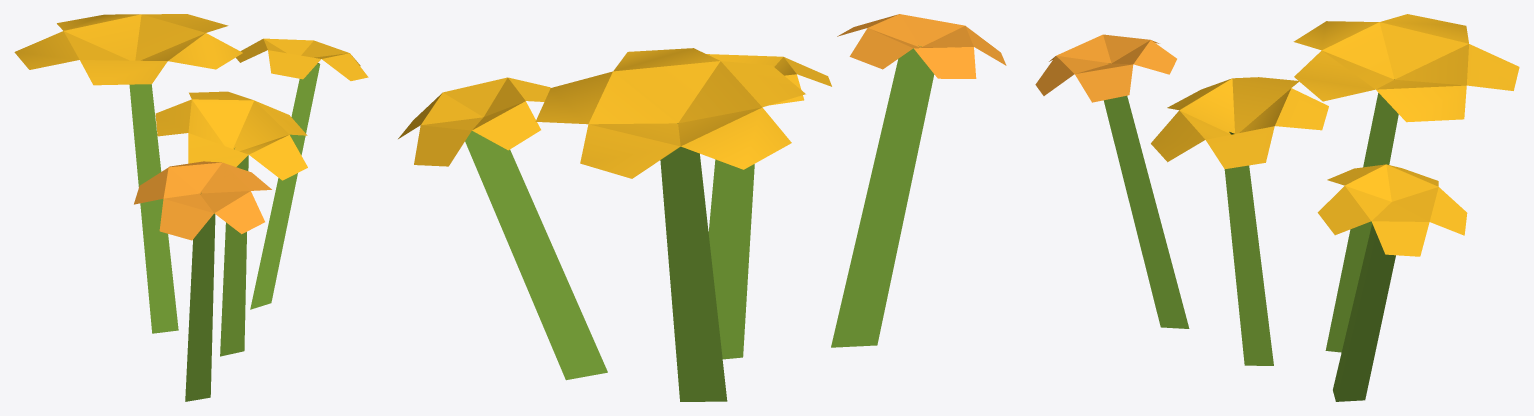
File: Env_Flower03.fbx
3 views of the same model, side by side, from view 1: azimuth 30°, elevation 25°; view 2: azimuth 150°, elevation 25°; view 3: azimuth 270°, elevation 25° (orthographic). The views are drawn at different scales.
Parts seen in each view (by area): view 1: Env_Flower03; view 2: Env_Flower03; view 3: Env_Flower03.
Part boxes in pixels (x1,y1,x2,y2): Env_Flower03: [14, 14, 368, 401]; Env_Flower03: [398, 14, 1006, 401]; Env_Flower03: [1035, 14, 1519, 401].
Bounding box in the file's own units: 72.08 × 54.62 × 81.58.
Materials: 1 (1 with a texture image).
